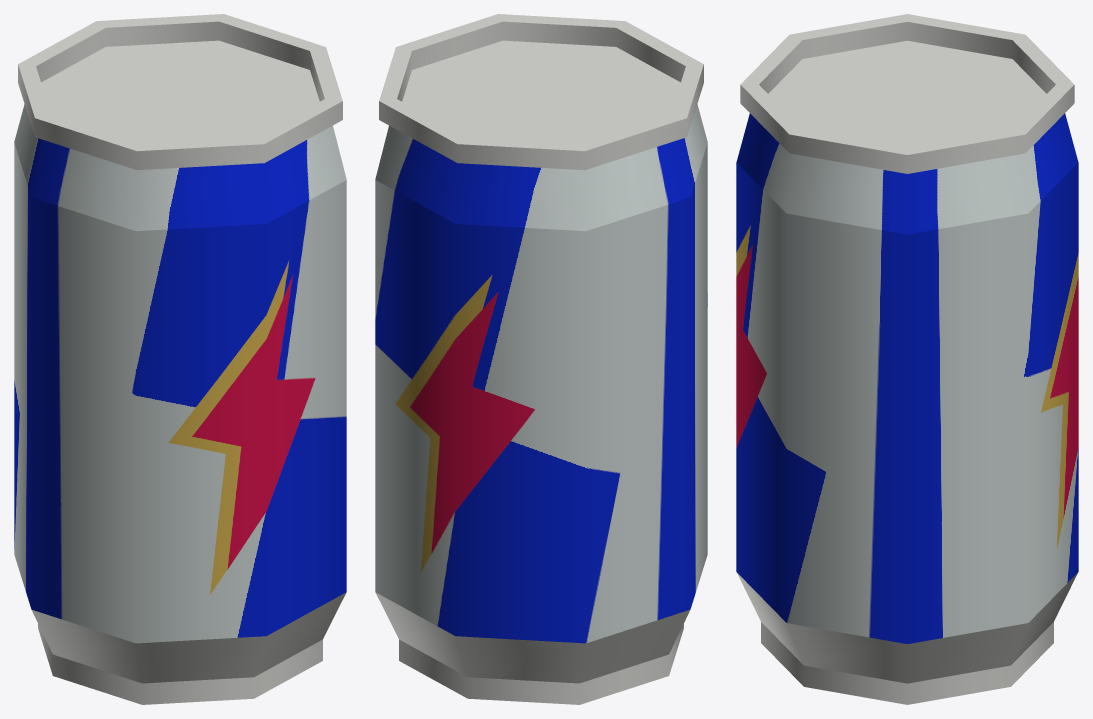
File: Can.fbx
3 renders of one model, left to right at view 1: azimuth 30°, elevation 25°; view 2: azimuth 150°, elevation 25°; view 3: azimuth 270°, elevation 25°, orthographic.
Parts seen in each view (by area): view 1: Can, Can1; view 2: Can, Can1; view 3: Can, Can1.
Boxes of the visible parts, left/top/right/bottom form: Can: left=14, top=104, right=346, bottom=643; Can1: left=18, top=14, right=346, bottom=704; Can: left=375, top=104, right=707, bottom=643; Can1: left=375, top=14, right=703, bottom=704; Can: left=736, top=113, right=1078, bottom=643; Can1: left=737, top=14, right=1077, bottom=704.
Size of the model in its own units: 2.07 by 3.72 by 2.07.
